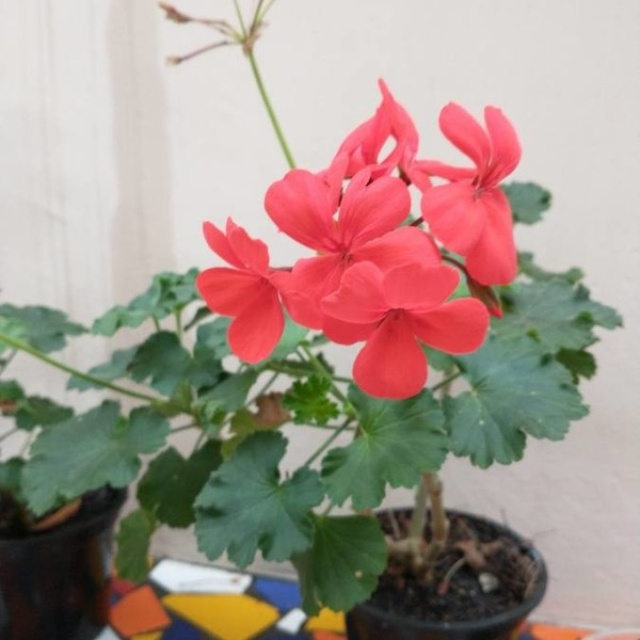obstacle: (196, 89, 625, 631), (22, 241, 269, 540)
